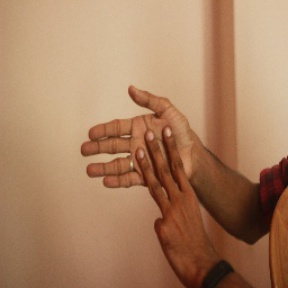M: (72, 83, 197, 228)
